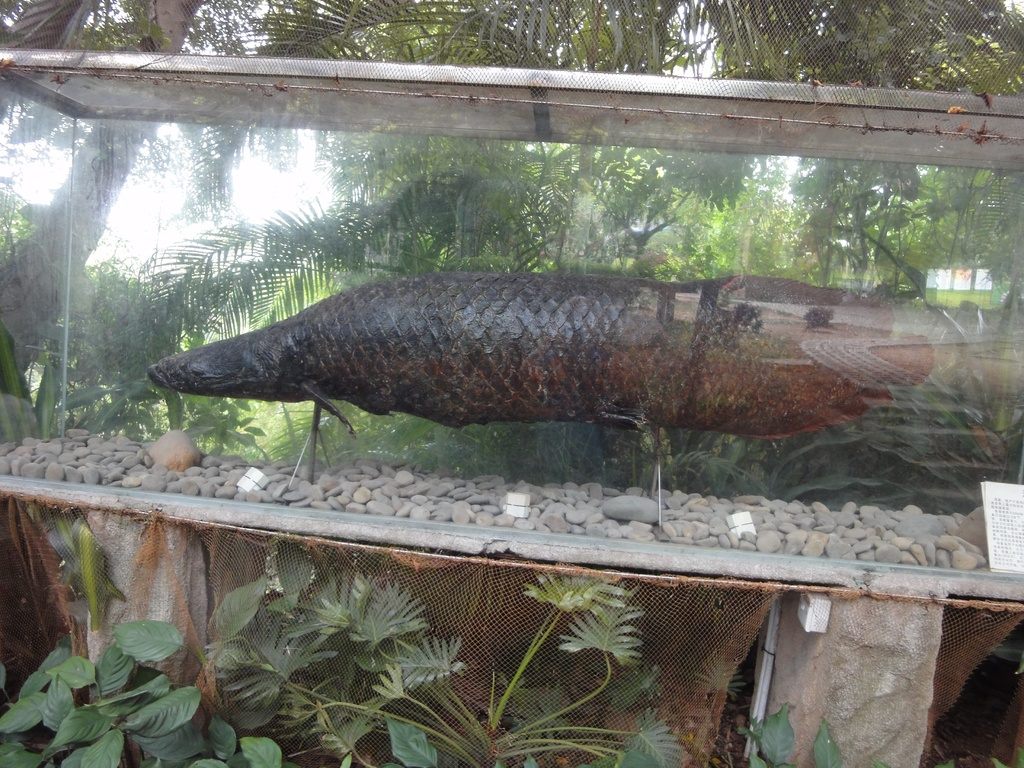Animal: (148, 265, 1022, 444)
